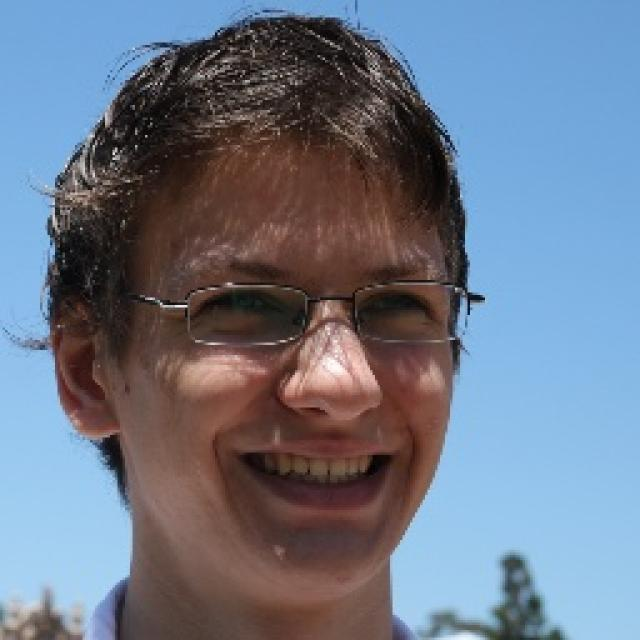earlobe: (80, 395, 117, 440)
eye: (195, 290, 282, 320), (360, 290, 434, 321)
nose: (290, 403, 373, 447)
wholeear: (49, 287, 118, 438)
